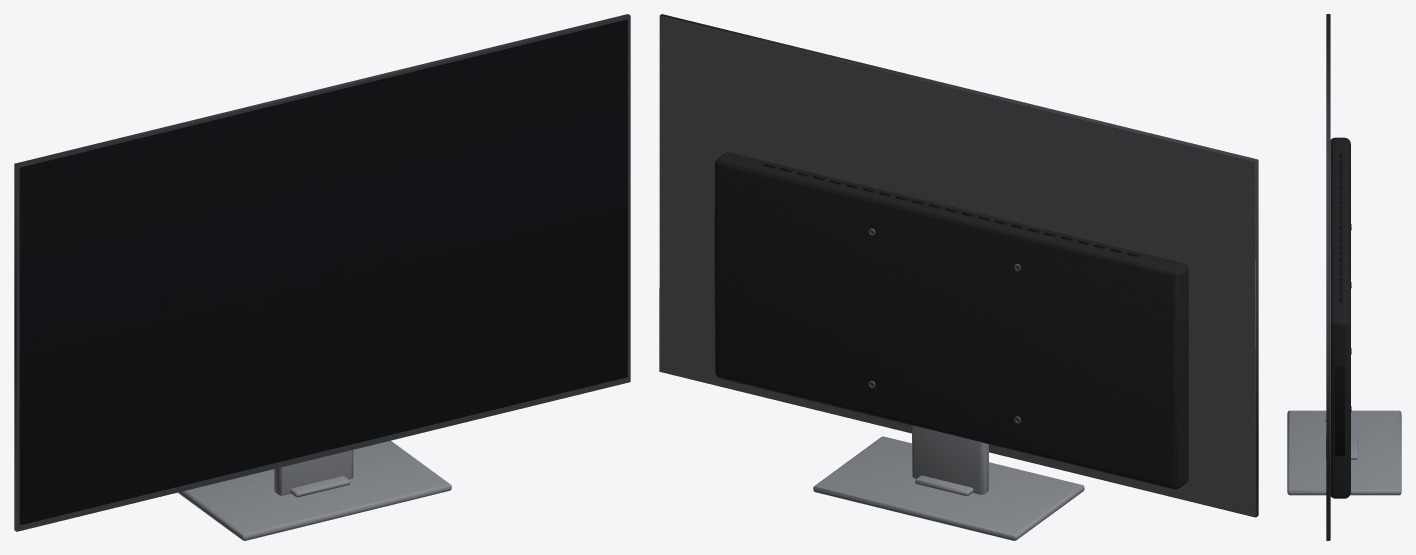
Rendered from detail_tv.glb.
3 views of the same model, side by side, from view 1: azimuth 30°, elevation 25°; view 2: azimuth 150°, elevation 25°; view 3: azimuth 270°, elevation 25° (orthographic). The views are drawn at different scales.
Parts seen in each view (by area): view 1: Screen, Pedestal stand, Bezel frame; view 2: Rear housing, VESA inserts, Pedestal stand, Bezel frame, Vents and connector panel; view 3: Pedestal stand, Rear housing, Bezel frame, Vents and connector panel, VESA inserts.
Boxes of the visible parts, x1,y1,x2,y2 form: Screen: (19,19,627,525); Pedestal stand: (178,440,451,540); Bezel frame: (14,14,630,531); Rear housing: (715,152,1188,489); VESA inserts: (659,16,1255,516); Pedestal stand: (813,425,1084,540); Bezel frame: (659,14,1258,517); Vents and connector panel: (714,163,1138,320); Pedestal stand: (1287,410,1401,495); Rear housing: (1330,137,1350,498); Bezel frame: (1326,14,1329,540); Vents and connector panel: (1335,153,1344,455); VESA inserts: (1330,14,1351,540).
Bounding box in the file's own units: 1.23 × 0.7817 × 0.25.
7 materials, 5 textured.
